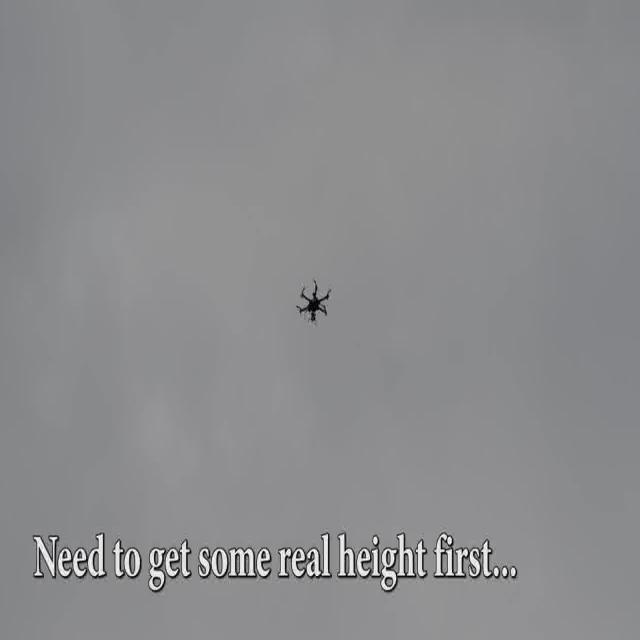Drone_FW: (296, 276, 332, 326)
